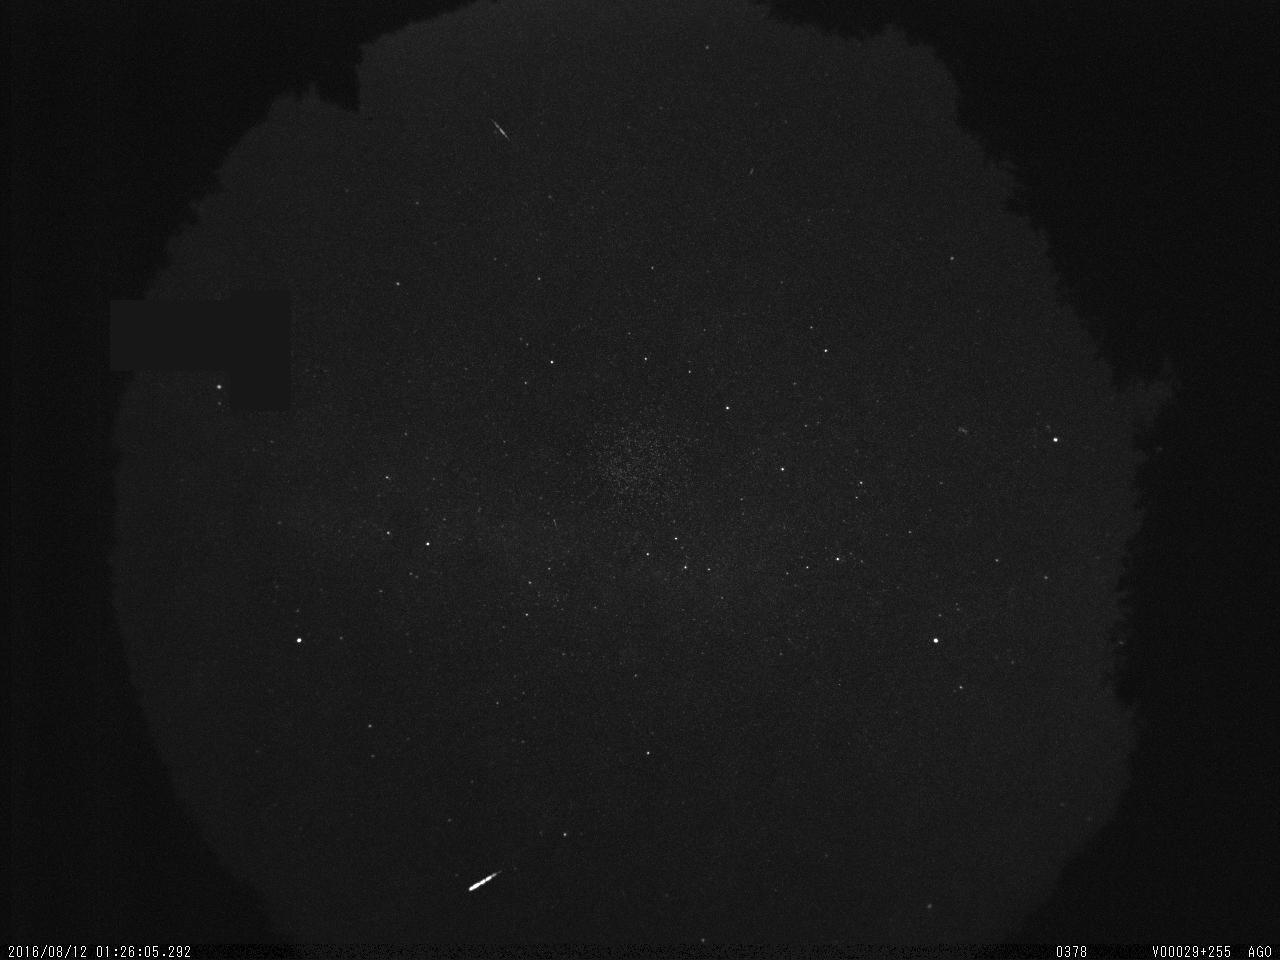meteor: (463, 863, 513, 898), (484, 111, 514, 147)
